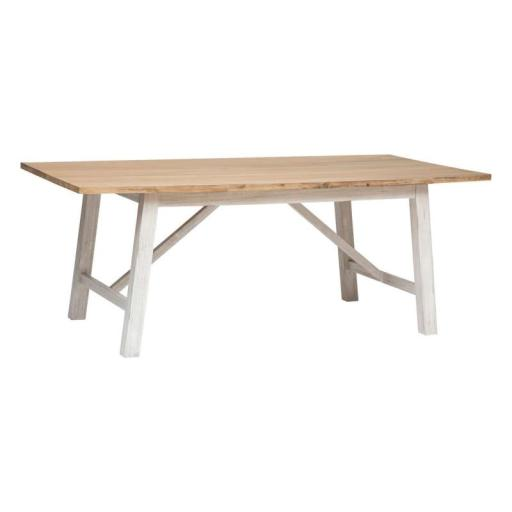table: (18, 151, 494, 367)
